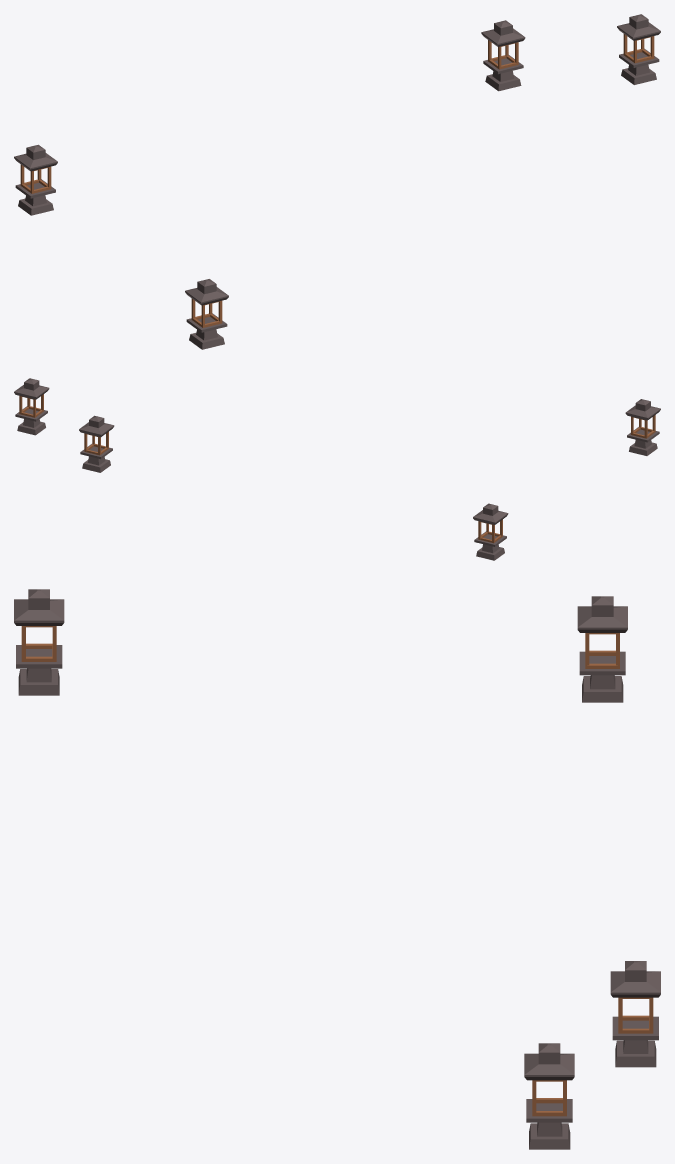
File: lamp_frame-v1.glb
The picture shows the model from 3 angles, top to bottom: view 1: azimuth 30°, elevation 25°; view 2: azimuth 150°, elevation 25°; view 3: azimuth 270°, elevation 25°; orthographic projection. The views are drawn at different scales.
Visible parts, largest first — view 1: Cube.036, Cube.040, Cube.038, Cube.042, wood_cap, wood_cap.001, wood_cap.003; view 2: Cube.040, Cube.036, Cube.038, Cube.042, wood_cap.001, wood_cap.003, wood_cap.002, wood_cap; view 3: Cube.042, Cube.040, Cube.038, Cube.036.
Boxes of the visible parts, <box> form: Cube.036: <box>185,279,228,349</box>; Cube.040: <box>617,14,660,84</box>; Cube.038: <box>14,144,57,215</box>; Cube.042: <box>481,20,525,91</box>; wood_cap: <box>20,164,51,193</box>; wood_cap.001: <box>623,34,654,63</box>; wood_cap.003: <box>191,298,222,327</box>; Cube.040: <box>14,378,49,435</box>; Cube.036: <box>625,399,660,455</box>; Cube.038: <box>473,503,508,560</box>; Cube.042: <box>79,415,114,472</box>; wood_cap.001: <box>19,394,43,417</box>; wood_cap.003: <box>631,415,655,438</box>; wood_cap.002: <box>84,431,108,455</box>; wood_cap: <box>478,519,502,543</box>; Cube.042: <box>610,961,660,1067</box>; Cube.040: <box>524,1043,574,1149</box>; Cube.038: <box>577,596,627,702</box>; Cube.036: <box>14,589,64,695</box>.
Size of the model in its own units: 3.44 by 0.3257 by 1.98.
